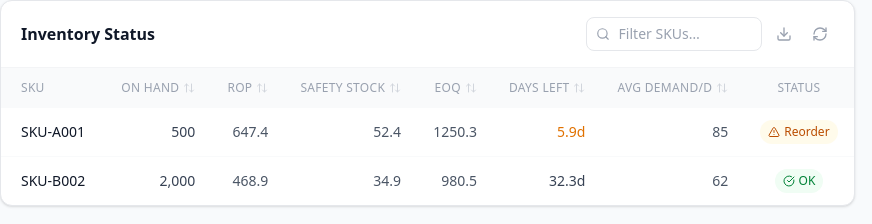
Scenario: InventoryTable › shows filter empty state when no SKUs match
Expected: the text "SKU-A001" is shown, [1, 108, 105, 156]
Type "NONEXISTENT" into the field with placeholder "Filter SKUs…" at (674, 34), box [586, 17, 762, 51]
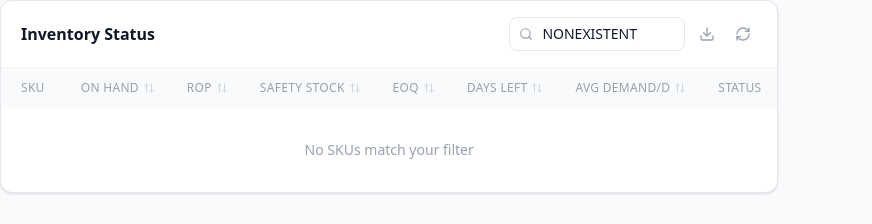
Now the text "No SKUs match your filter" is shown, box [1, 108, 777, 192]
